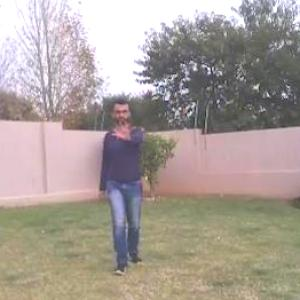follow_hand: (109, 117, 136, 141)
